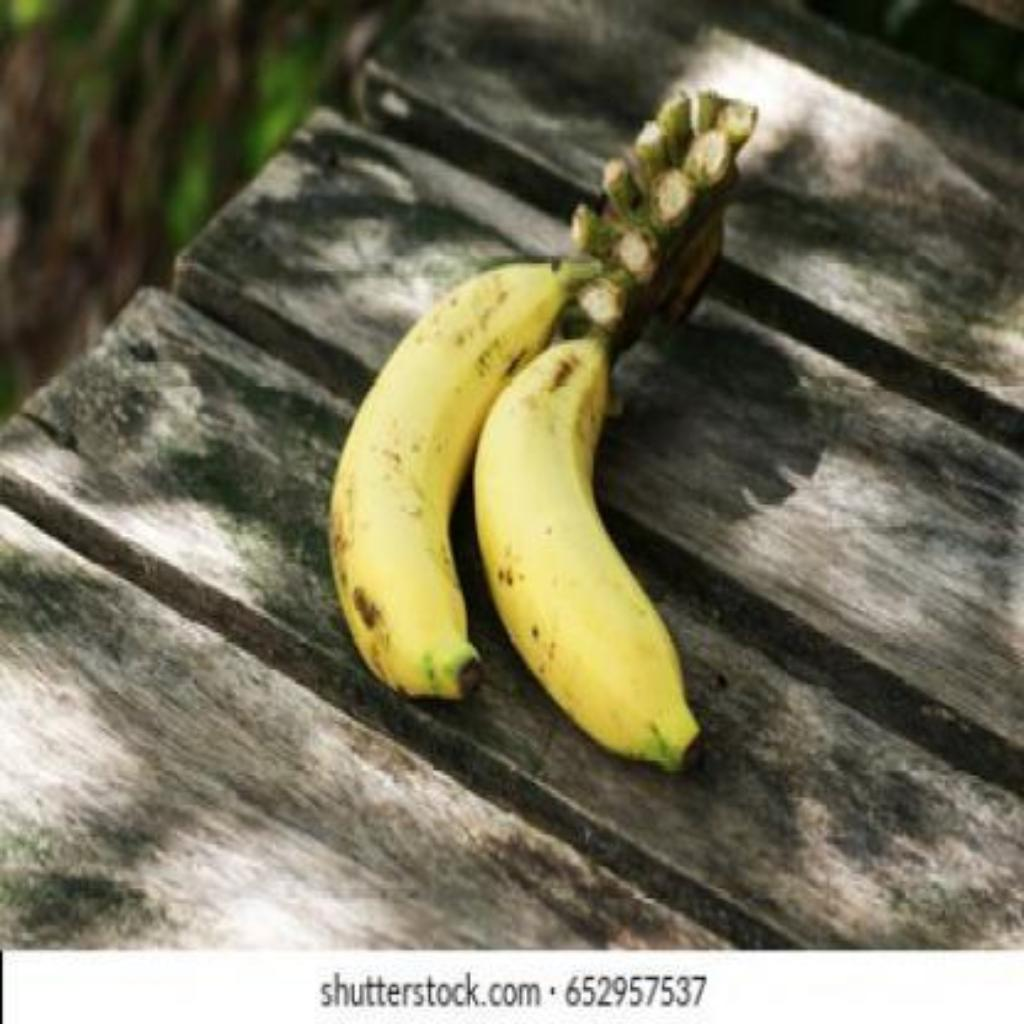banana: (327, 266, 564, 692), (475, 340, 674, 736)
